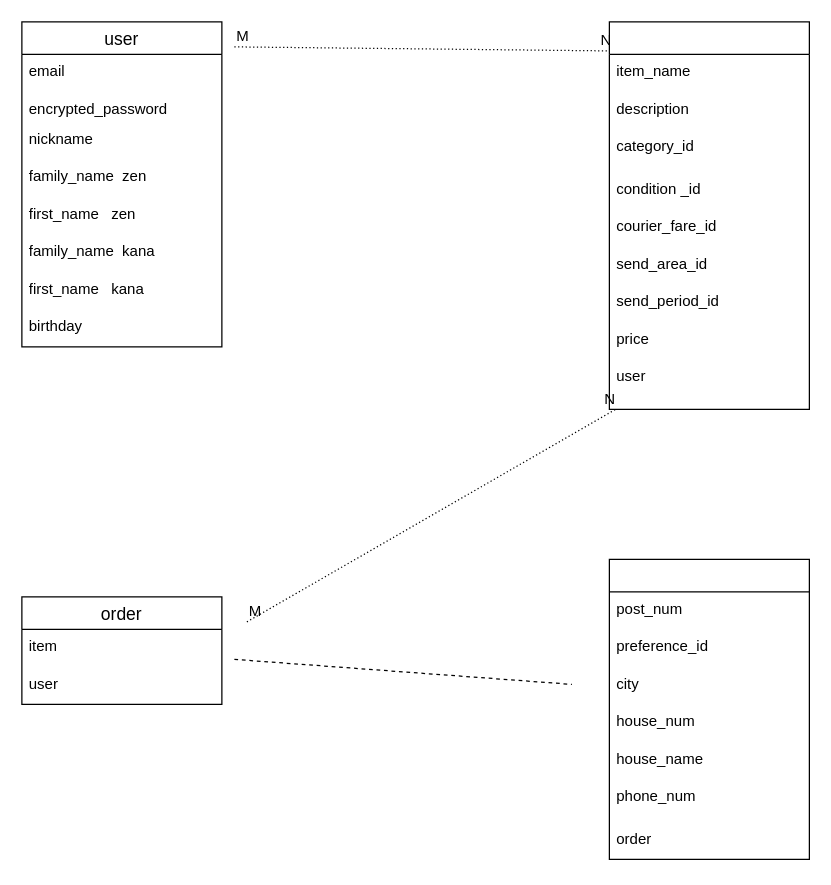
The diagram is 831 pixels wide and 885 high, and some of its shapes have lost their labels. The box of each missing label's shape, as (x1, y1, x2, y2) in pixels:
address: (608, 558, 809, 859)
items: (608, 21, 809, 409)
